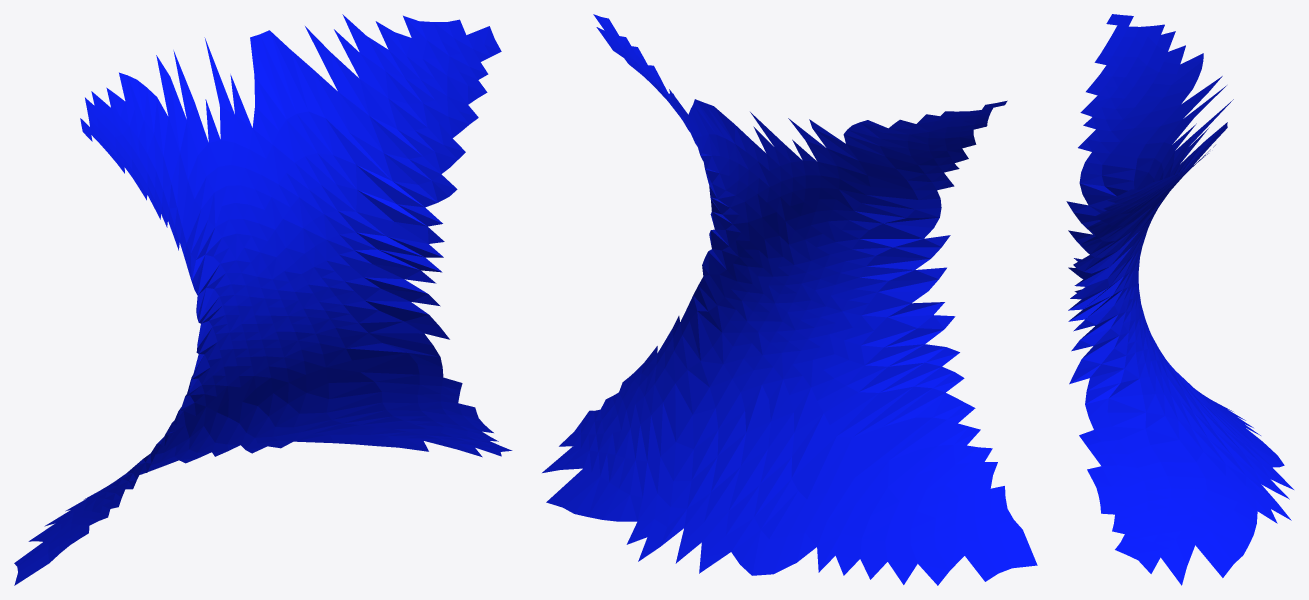
The model's file is Hyperboloid_Remeshed_1.obj.
The picture shows the model from 3 angles, left to right: view 1: azimuth 30°, elevation 25°; view 2: azimuth 150°, elevation 25°; view 3: azimuth 270°, elevation 25°; orthographic projection. The views are drawn at different scales.
Bounding box in the file's own units: 1.21 × 1.11 × 0.579.
